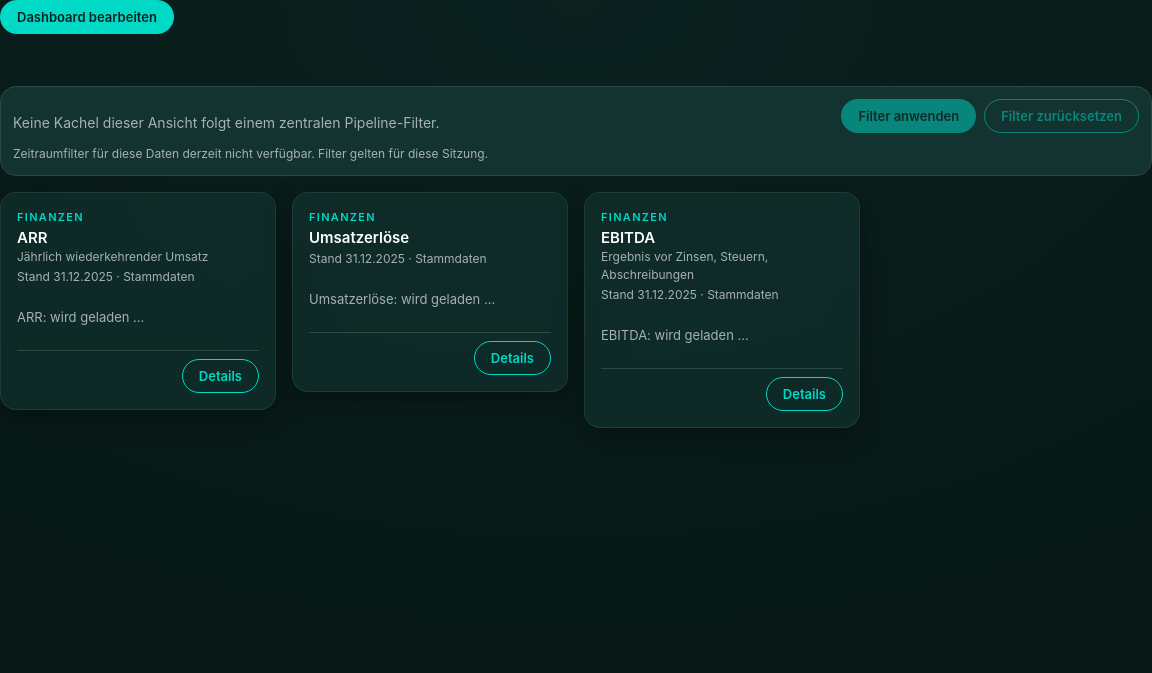
Scenario: DashboardWorkspace – Bearbeiten › behält den Entwurf bei einem Speicherfehler und nennt den Grund
The width and height of the screenshot is (1152, 673).
Click the button "Dashboard bearbeiten": point(87, 17) [0, 0, 174, 34]
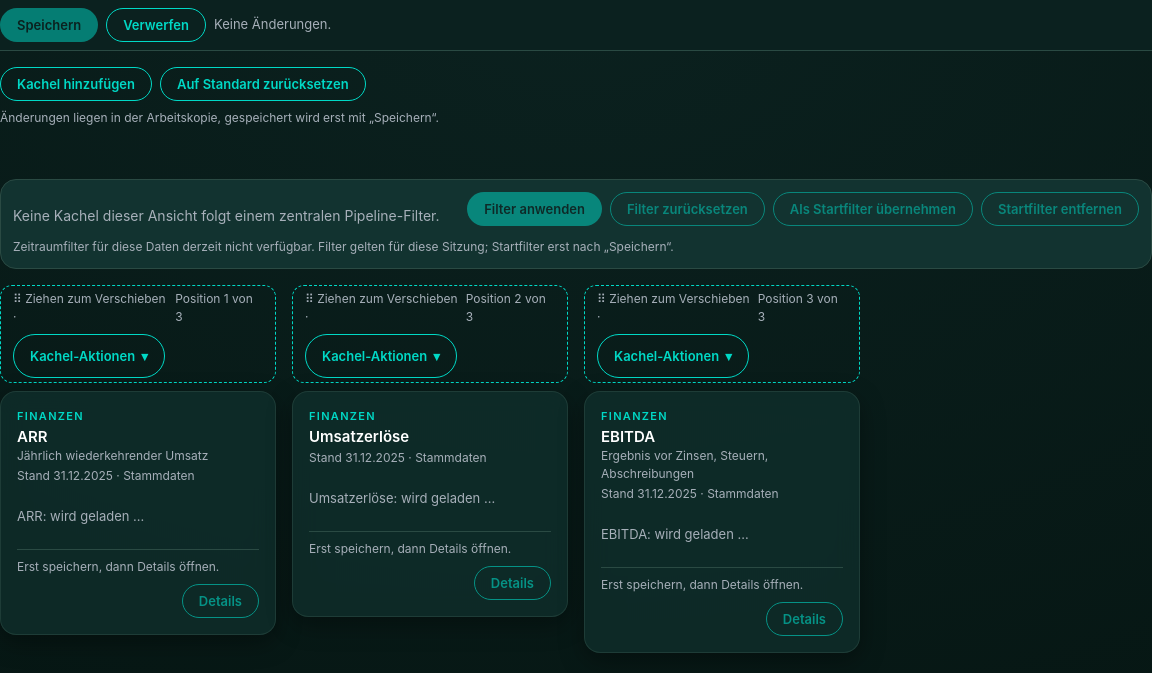
Click the button "Kachel-Aktionen ▾" below "Position 1 von 3": point(89, 356) [13, 334, 165, 378]
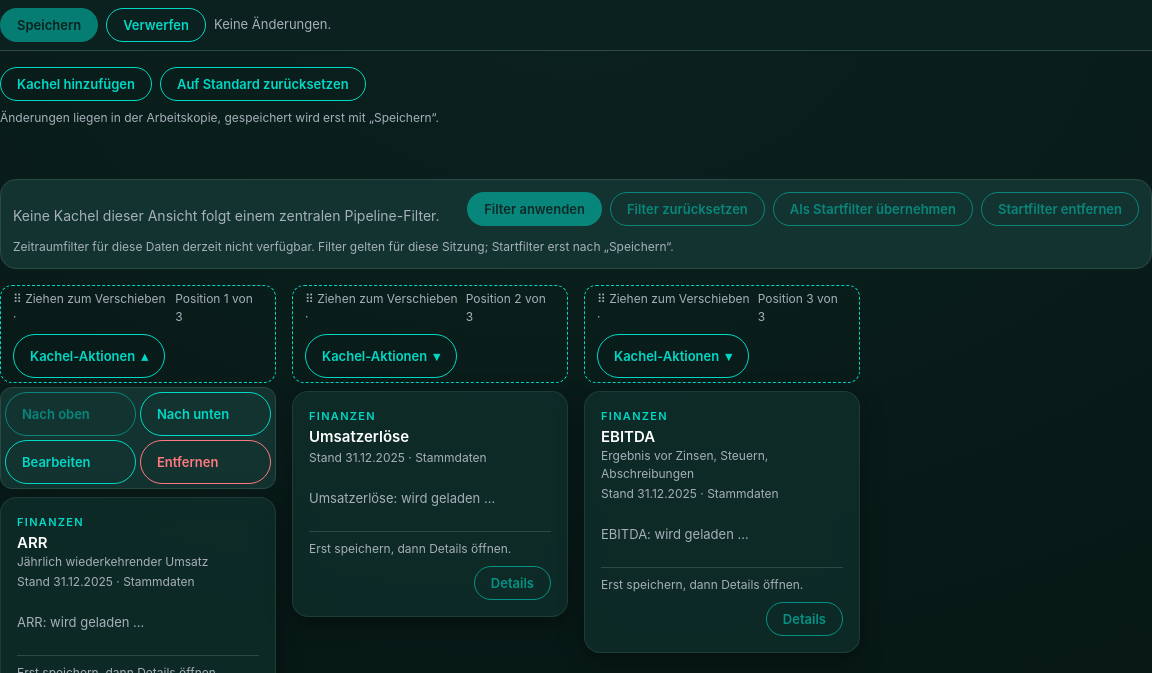
Click the button "Kachel-Aktionen ▾" below "Position 2 von 3": point(381, 356) [305, 334, 457, 378]
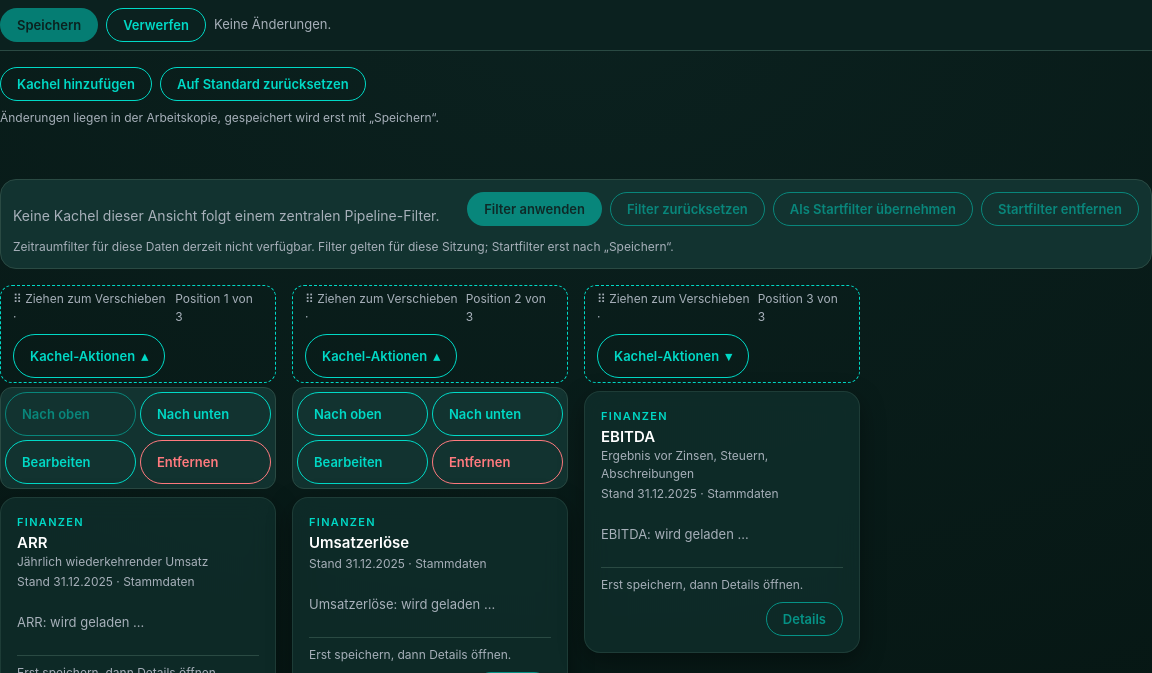
Click the button "Kachel-Aktionen ▾": point(673, 356) [597, 334, 749, 378]
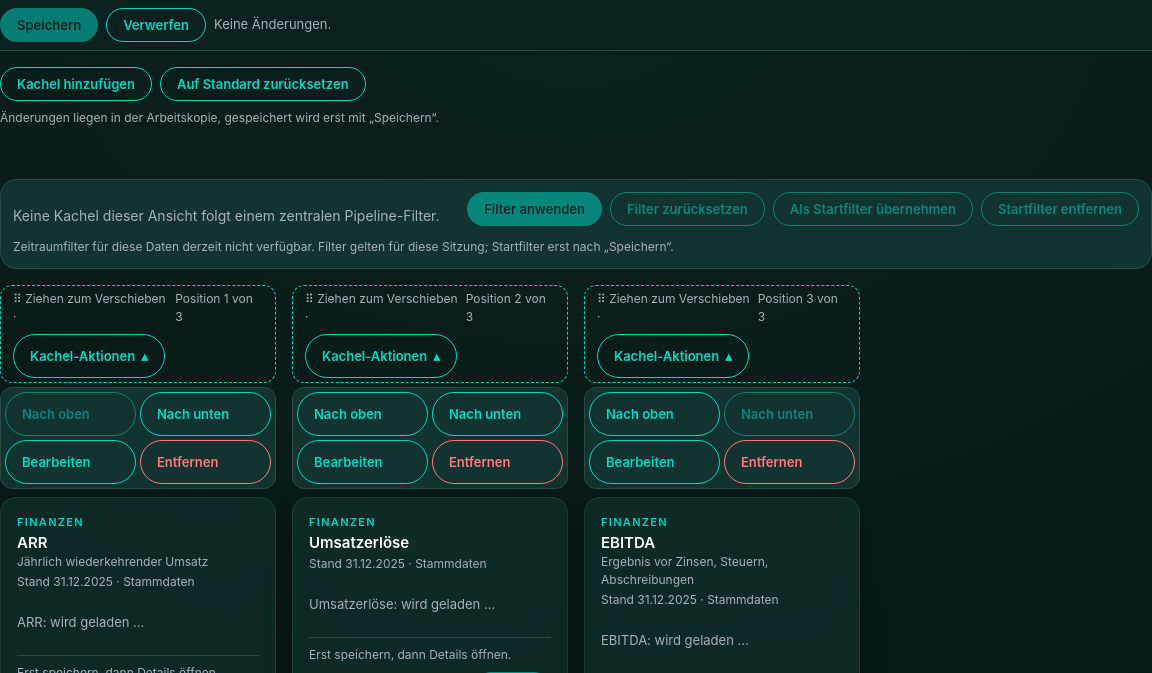
Click the button "Nach unten" below "Position 1 von 3": point(206, 414) [140, 392, 271, 436]
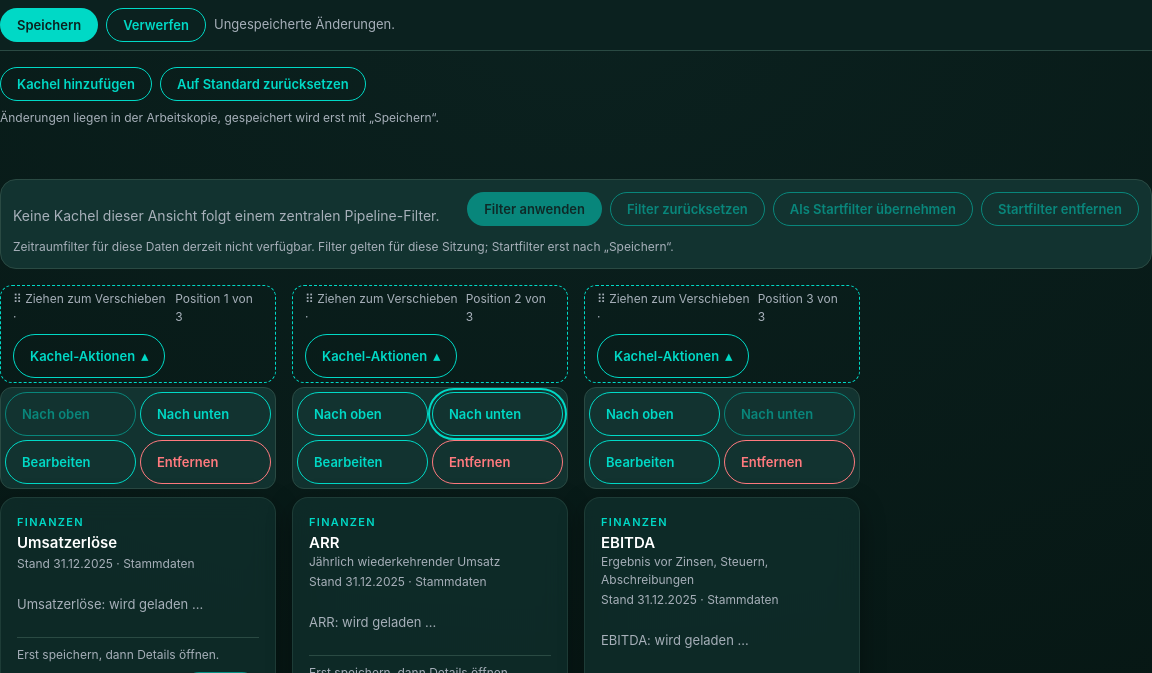
Click the button "Speichern": point(49, 25) [0, 8, 98, 42]
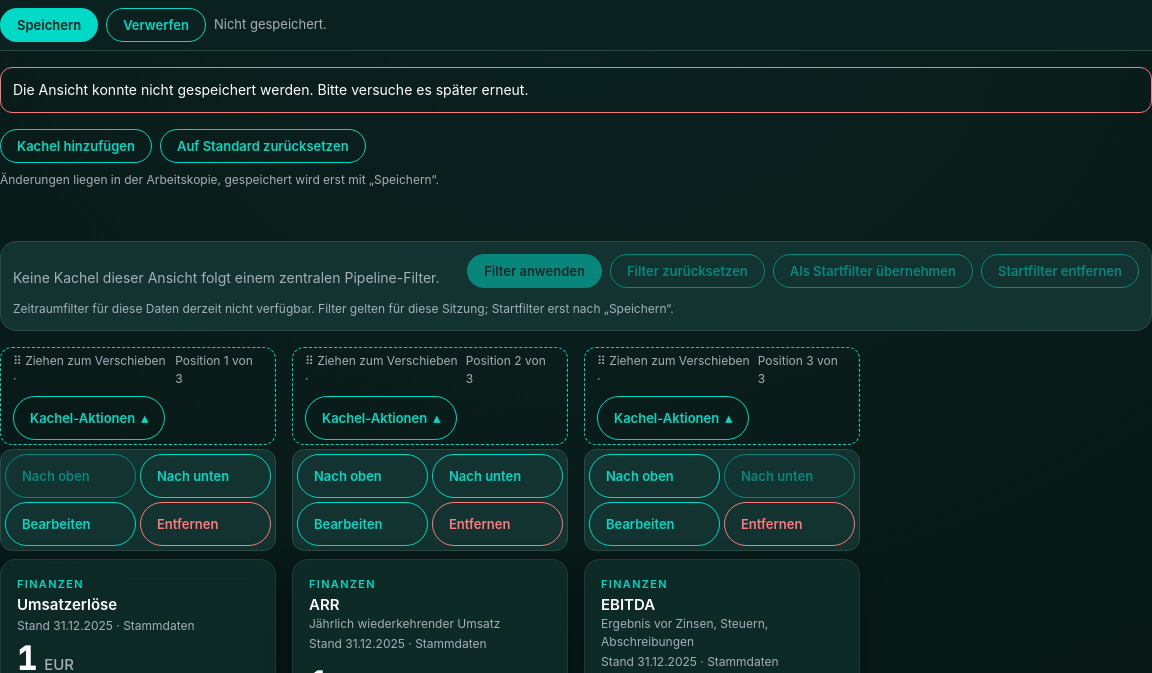
Expected: the button "Speichern" is enabled, [0, 8, 98, 42]
Expected: the element with test id "save-error" shows "nicht gespeichert werden", [13, 81, 528, 98]
